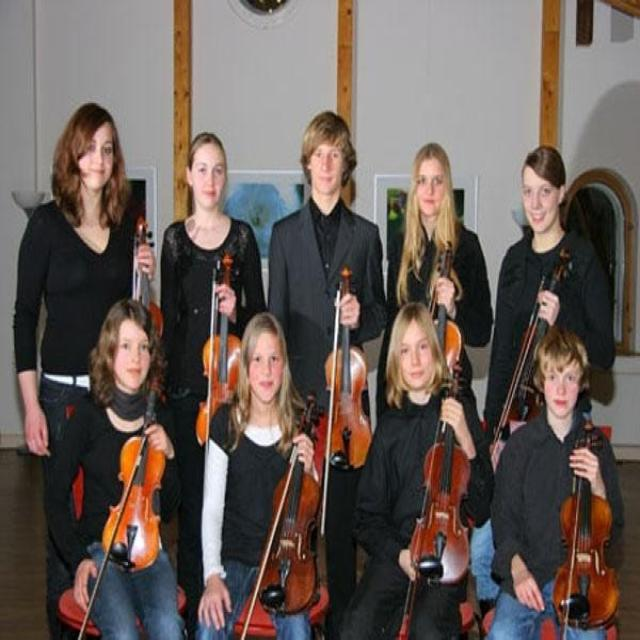violin: (489, 248, 576, 456), (256, 392, 324, 619), (408, 361, 473, 584), (552, 414, 618, 632), (101, 368, 170, 570), (321, 266, 373, 468), (195, 254, 245, 449), (136, 218, 169, 338), (435, 242, 463, 370)
